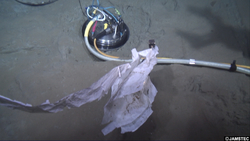plastic bag: (1, 44, 163, 135)
